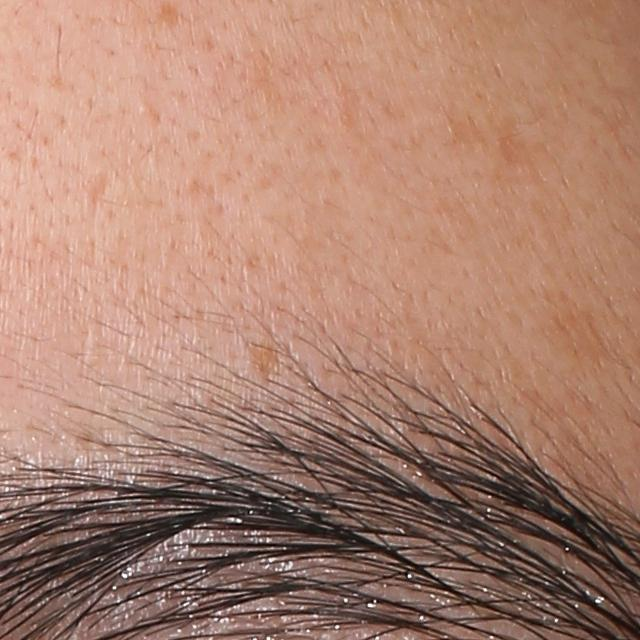atrophic_scar: (84, 170, 118, 219)
comedo: (135, 98, 153, 117)
